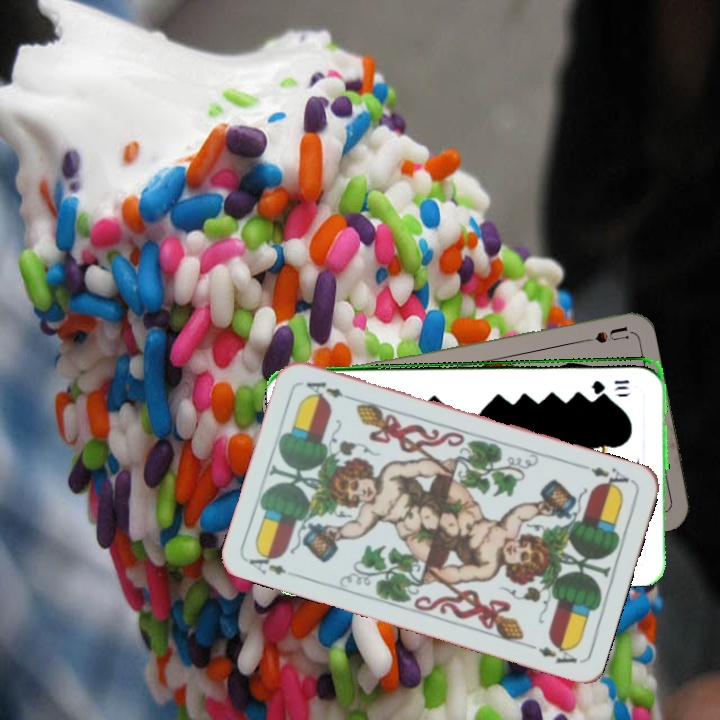EA: (577, 460, 635, 494), (245, 546, 302, 580)
G10: (587, 376, 632, 393)
SU: (570, 322, 630, 347)
